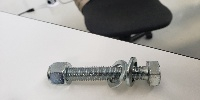FinishedAssembly: (43, 57, 165, 92)
